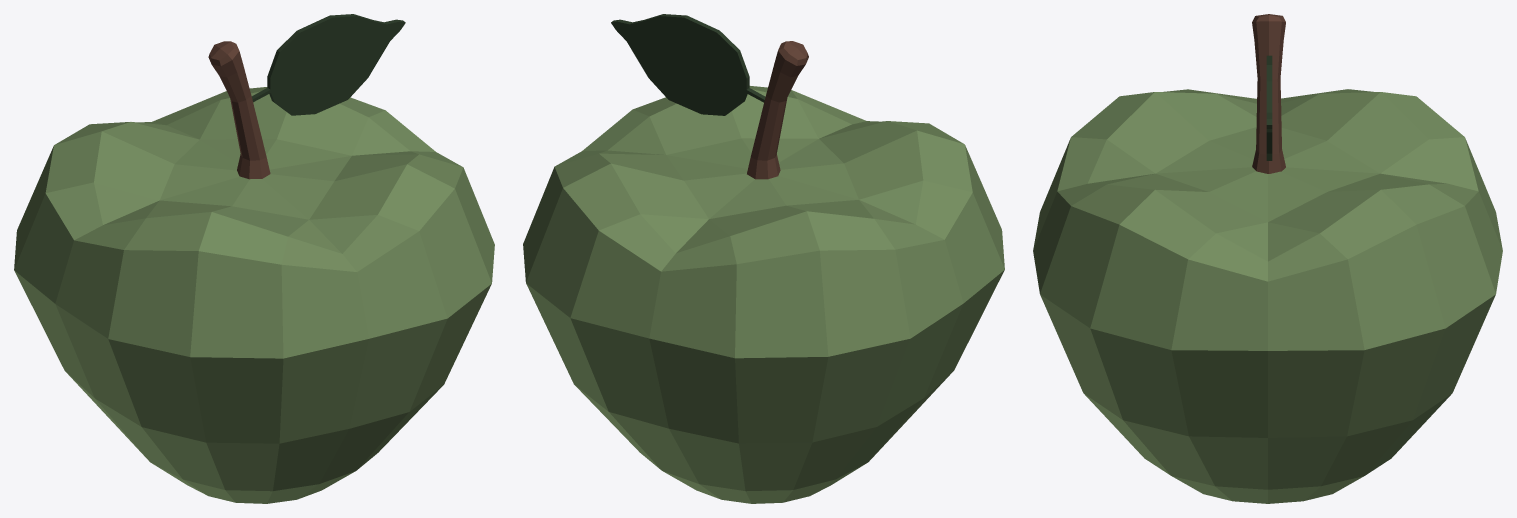
The model's file is food-Apple_Green.glb.
3 views of the same model, side by side, from view 1: azimuth 30°, elevation 25°; view 2: azimuth 150°, elevation 25°; view 3: azimuth 270°, elevation 25° (orthographic). The views are drawn at different scales.
Visible parts, largest first — view 1: Apple_Green; view 2: Apple_Green; view 3: Apple_Green.
Boxes of the visible parts, x1,y1,x2,y2 form: Apple_Green: (14,14,494,503); Apple_Green: (523,14,1004,503); Apple_Green: (1033,14,1502,503).
Bounding box in the file's own units: 0.8025 × 0.8517 × 0.7987.
